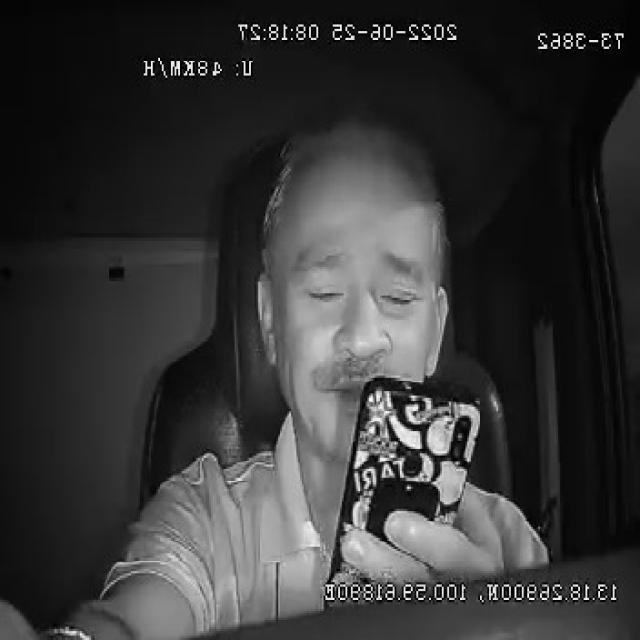phone: (323, 374, 485, 583)
